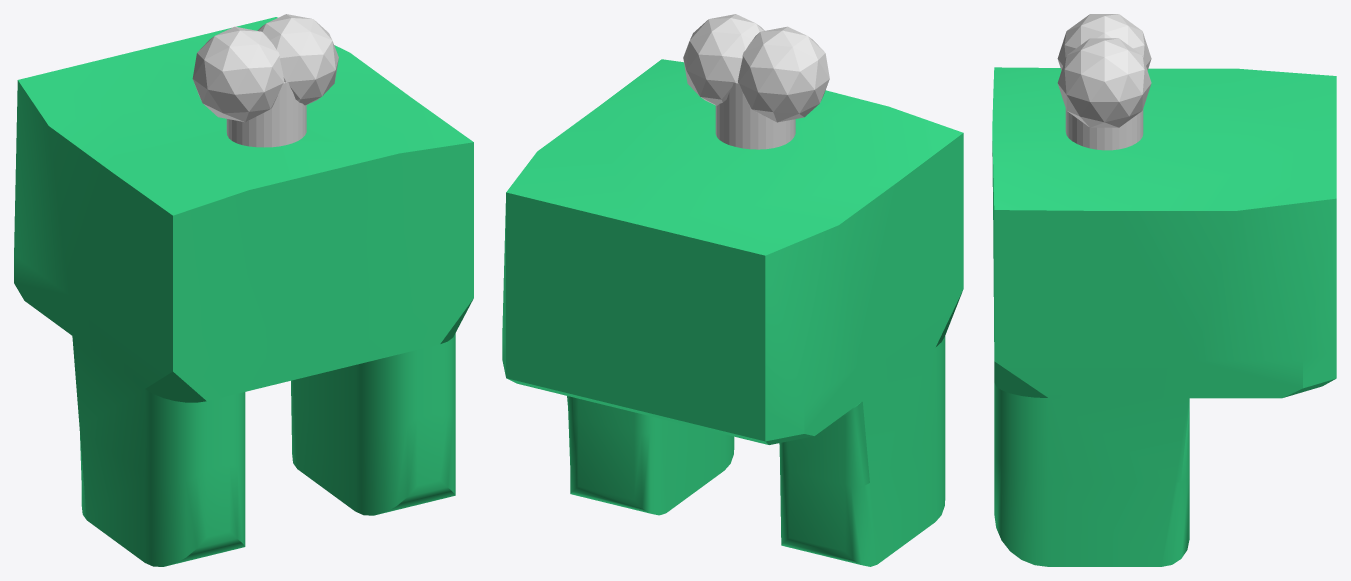
File: GreenImpostorDead.fbx
3 views of the same model, side by side, from view 1: azimuth 30°, elevation 25°; view 2: azimuth 150°, elevation 25°; view 3: azimuth 270°, elevation 25° (orthographic). The views are drawn at different scales.
Visible parts, largest first — view 1: Cube.002, Icosphere.001, Icosphere, Cylinder; view 2: Cube.002, Icosphere.001, Icosphere, Cylinder; view 3: Cube.002, Icosphere, Icosphere.001, Cylinder.
Boxes of the visible parts, x1,y1,x2,y2 form: Cube.002: (14,17,473,566); Icosphere.001: (192,26,284,122); Icosphere: (257,14,338,105); Cylinder: (226,82,306,147); Cube.002: (502,59,963,566); Icosphere.001: (738,26,829,122); Icosphere: (683,14,764,105); Cylinder: (715,82,795,149); Cube.002: (992,67,1336,566); Icosphere: (1057,38,1151,127); Icosphere.001: (1057,14,1151,70); Cylinder: (1065,108,1143,150).
Size of the model in its own units: 187 by 285 by 191.
